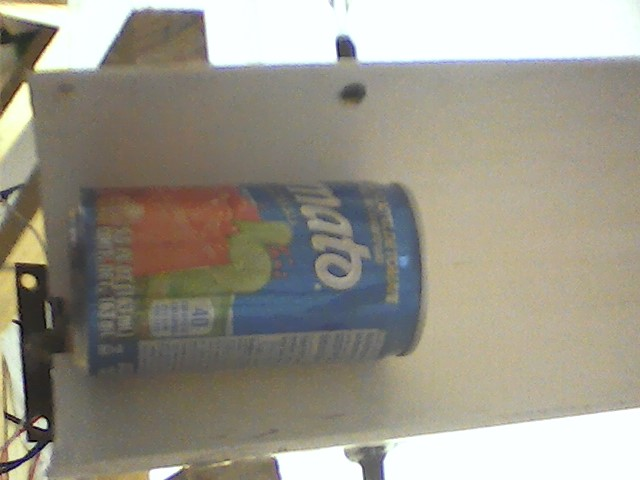lata: (61, 177, 438, 381)
